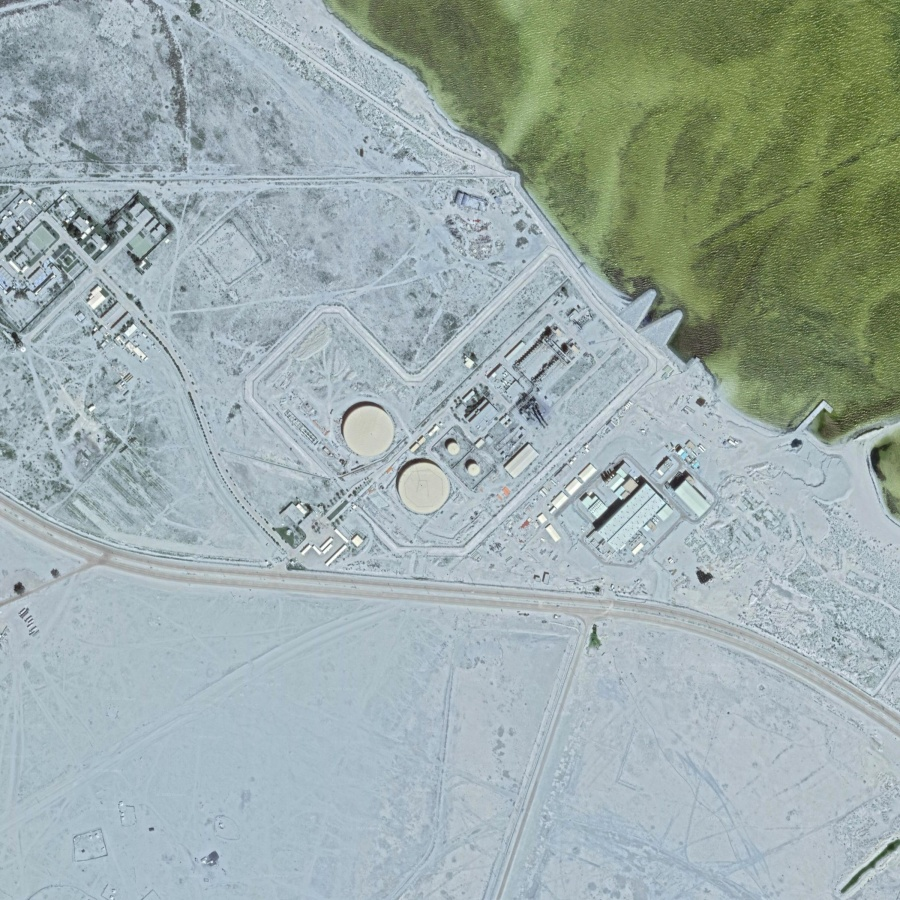PowerPlant: (320, 296, 725, 583)
